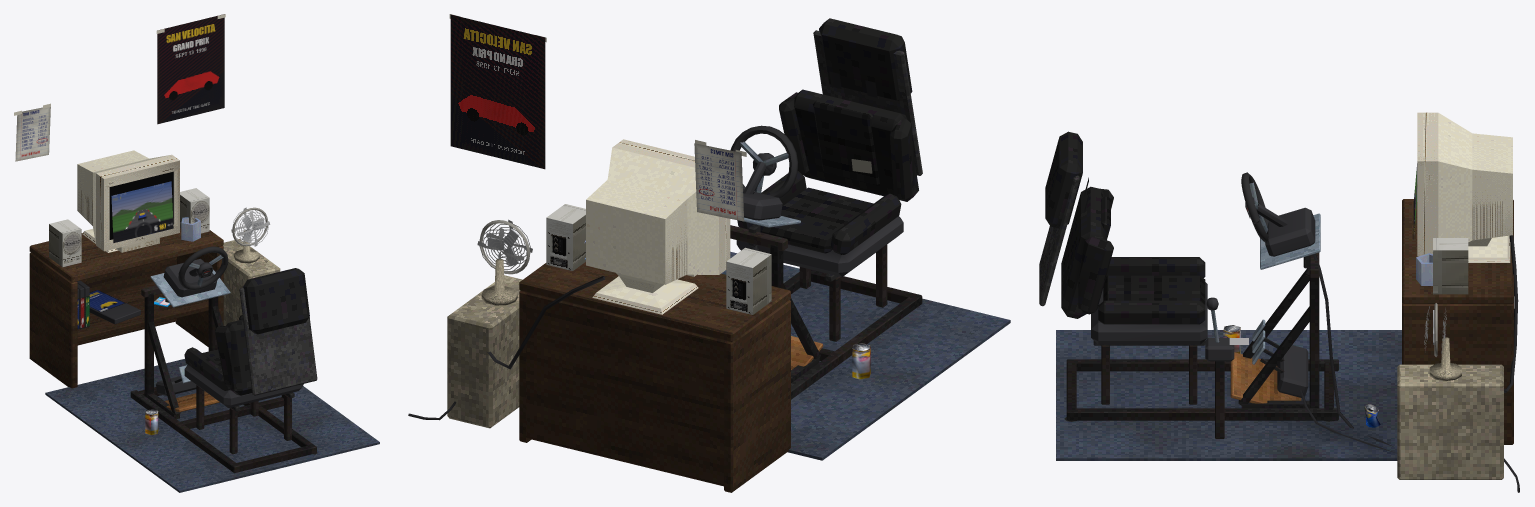
File: station_sim.glb
The picture shows the model from 3 angles, left to right: view 1: azimuth 30°, elevation 25°; view 2: azimuth 150°, elevation 25°; view 3: azimuth 270°, elevation 25°; orthographic projection. The views are drawn at different scales.
Parts seen in each view (by area): view 1: Sim_Carpet, Sim_Poster, SimCRT, Sim_StandSide_-0.46, Sim_BackShell, Sim_Stand, Sim_BackUpper, Sim_Screen, Sim_StandShelf, Sim_PC, Sim_StandBack, Sim_LapSheet (+24 smaller); view 2: Sim_StandBack, Sim_Carpet, SimCRT, Sim_Poster, Sim_StandSide_-0.46, Sim_PC, Sim_Stand, Sim_BackUpper, Sim_BackLower, Sim_BackCushion, Sim_SeatCushion, Sim_LapSheet (+21 smaller); view 3: Sim_Carpet, SimCRT, Sim_PC, Sim_StandSide_+0.46, Sim_Stand, Sim_Rail_+0.24, Sim_BackLower, Sim_SeatShell, Sim_SeatCushion, Sim_SeatBolster_+1, Sim_BackUpper, SimSpeaker+0.4 (+22 smaller).
Part boxes in pixels (x1,y1,x2,y2): Sim_Carpet: [45, 359, 379, 492]; Sim_Poster: [157, 14, 224, 124]; SimCRT: [77, 150, 179, 252]; Sim_StandSide_-0.46: [29, 252, 77, 388]; Sim_BackShell: [239, 287, 317, 395]; Sim_Stand: [29, 228, 223, 282]; Sim_BackUpper: [243, 268, 309, 334]; Sim_Screen: [111, 181, 173, 242]; Sim_StandShelf: [77, 282, 208, 342]; Sim_PC: [223, 239, 280, 325]; Sim_StandBack: [77, 257, 176, 345]; Sim_LapSheet: [15, 107, 50, 161]; Sim_StandBack: [524, 292, 726, 486]; Sim_Carpet: [721, 251, 1010, 460]; SimCRT: [586, 139, 730, 314]; Sim_Poster: [450, 14, 545, 169]; Sim_StandSide_-0.46: [724, 300, 790, 492]; Sim_PC: [447, 275, 522, 428]; Sim_Stand: [519, 262, 790, 342]; Sim_BackUpper: [819, 18, 912, 100]; Sim_BackLower: [794, 89, 918, 201]; Sim_BackCushion: [813, 100, 879, 184]; Sim_SeatCushion: [760, 187, 873, 253]; Sim_LapSheet: [694, 143, 744, 221]; Sim_Carpet: [1056, 330, 1401, 460]; SimCRT: [1417, 112, 1512, 262]; Sim_PC: [1397, 364, 1503, 479]; Sim_StandSide_+0.46: [1402, 303, 1513, 444]; Sim_Stand: [1402, 199, 1513, 303]; Sim_Rail_+0.24: [1066, 408, 1338, 420]; Sim_BackLower: [1061, 186, 1106, 318]; Sim_SeatShell: [1091, 282, 1207, 344]; Sim_SeatCushion: [1103, 275, 1205, 304]; Sim_SeatBolster_+1: [1098, 300, 1205, 324]; Sim_BackUpper: [1045, 131, 1082, 228]; SimSpeaker+0.4: [1433, 238, 1468, 294].
Bounding box in the file's own units: 1.58 × 1.77 × 1.98.
Materials: 36 (28 with a texture image).
